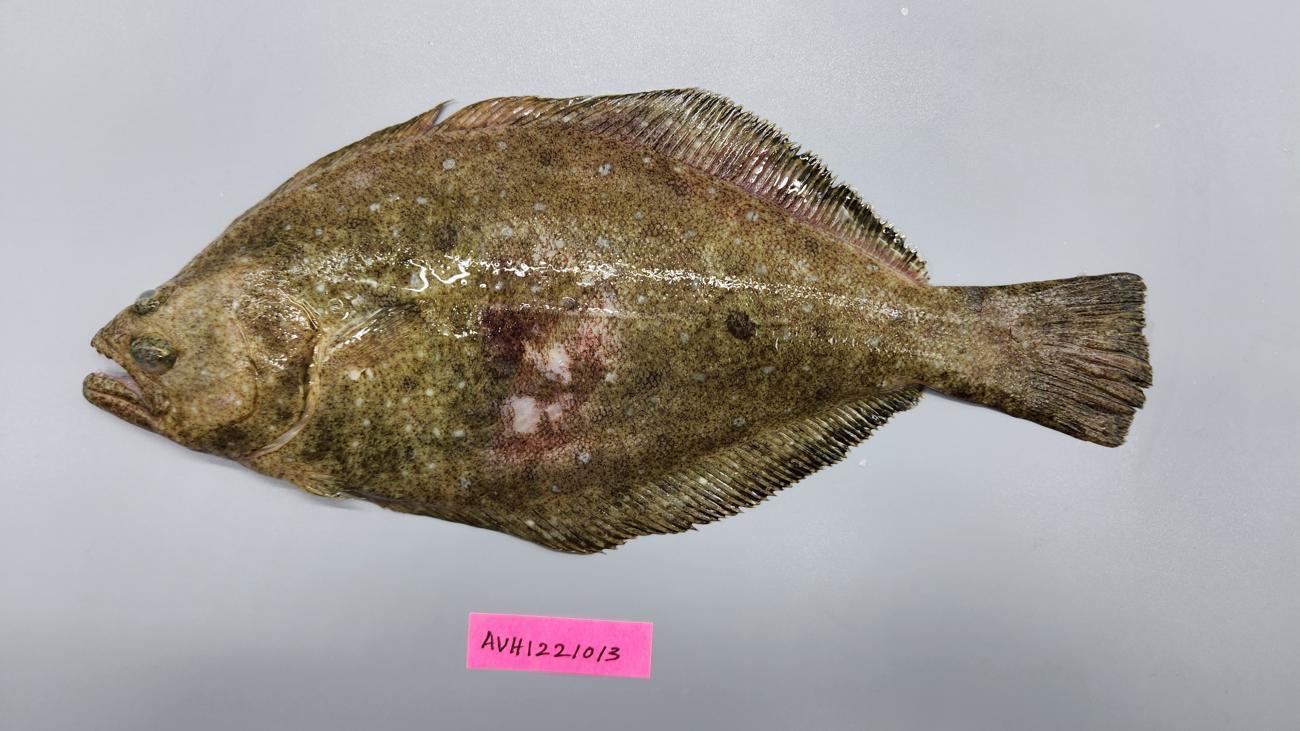VIDYH: (480, 284, 629, 462)
VIDYU: (504, 285, 623, 436)
VIFCH: (1037, 326, 1153, 408)
VIOUY: (83, 95, 1153, 555)
